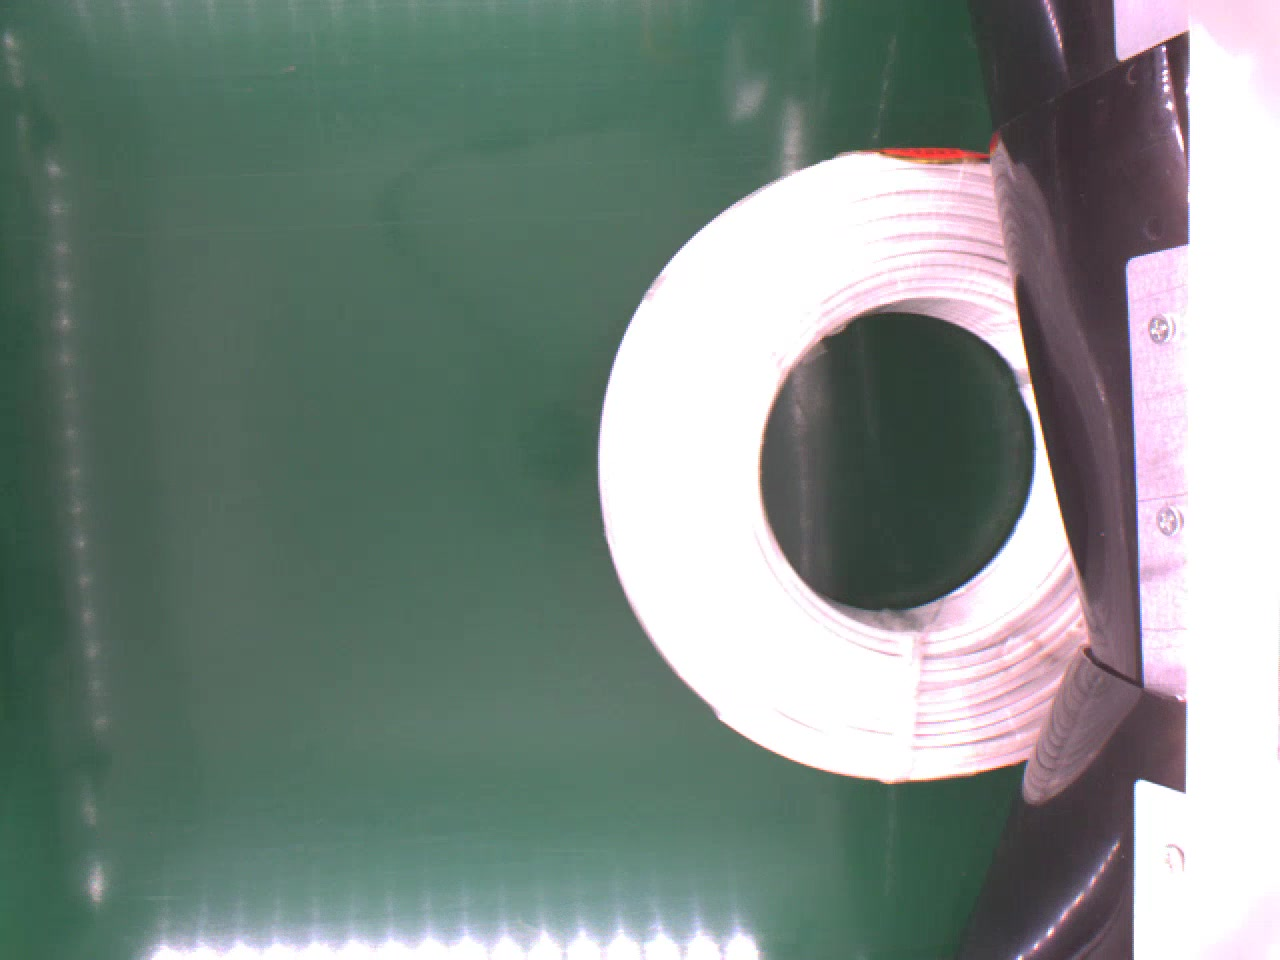white: (595, 139, 1089, 784)
